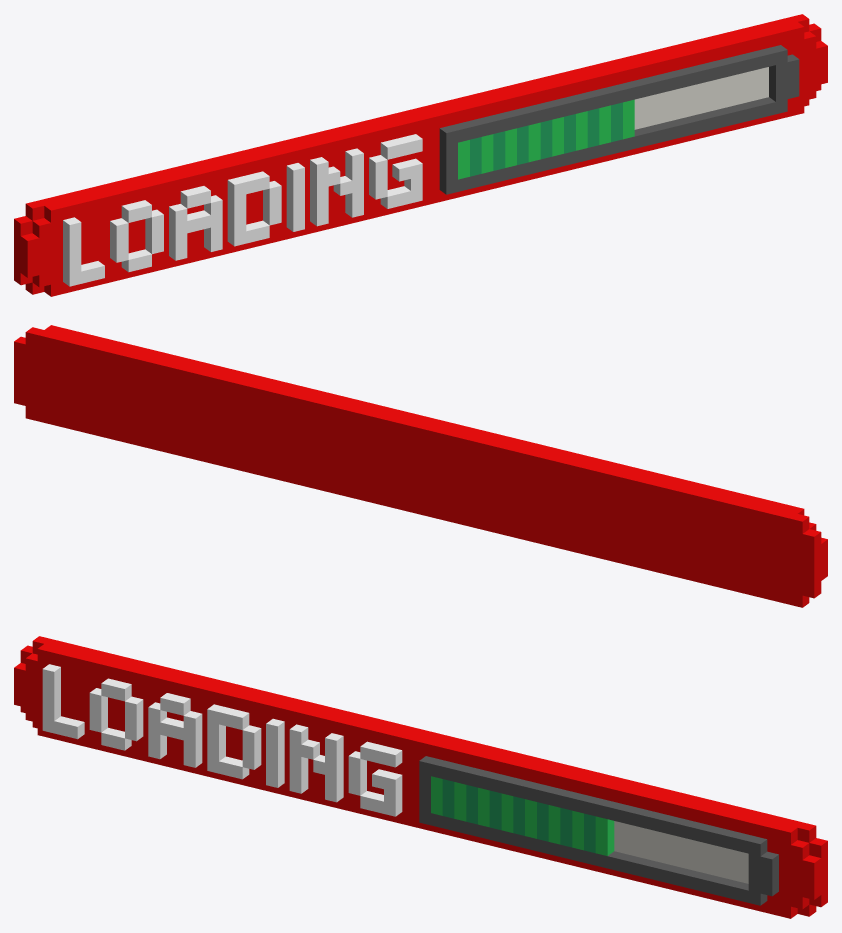
Rendered from loading_5.obj.
3 views of the same model, one above another, from view 1: azimuth 30°, elevation 25°; view 2: azimuth 150°, elevation 25°; view 3: azimuth 330°, elevation 25° (orthographic).
Visible parts, largest first — view 1: loading_5; view 2: loading_5; view 3: loading_5.
Boxes of the visible parts, <box> form: loading_5: <box>14,14,827,296</box>; loading_5: <box>14,325,827,607</box>; loading_5: <box>14,636,827,918</box>.
Bounding box in the file's own units: 68 × 7 × 3.
Materials: 1 (1 with a texture image).
